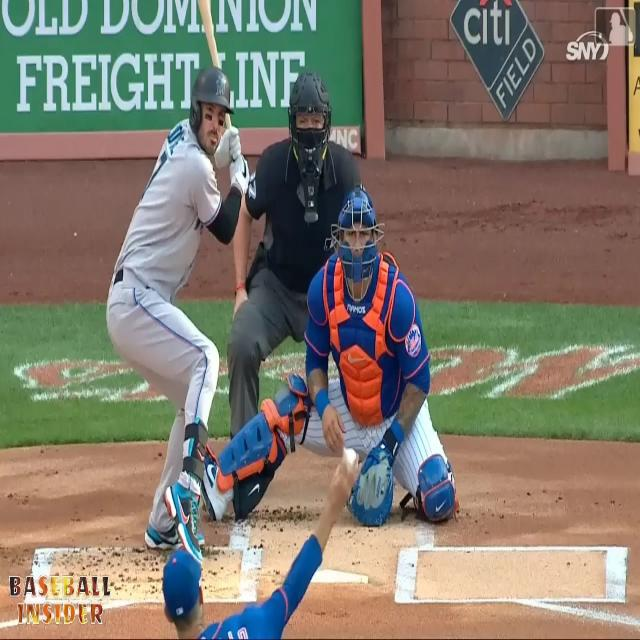baseball: (342, 442, 358, 472)
